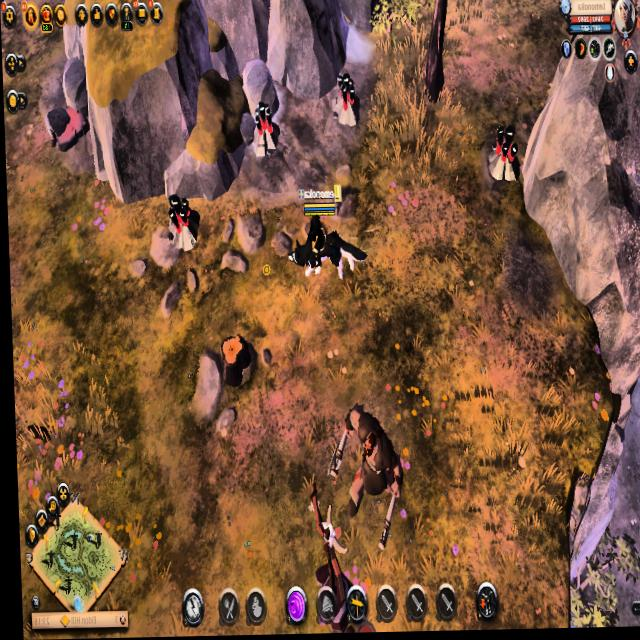ore tier 5: (484, 124, 525, 188), (163, 190, 200, 255), (246, 101, 281, 167), (328, 71, 362, 130)
